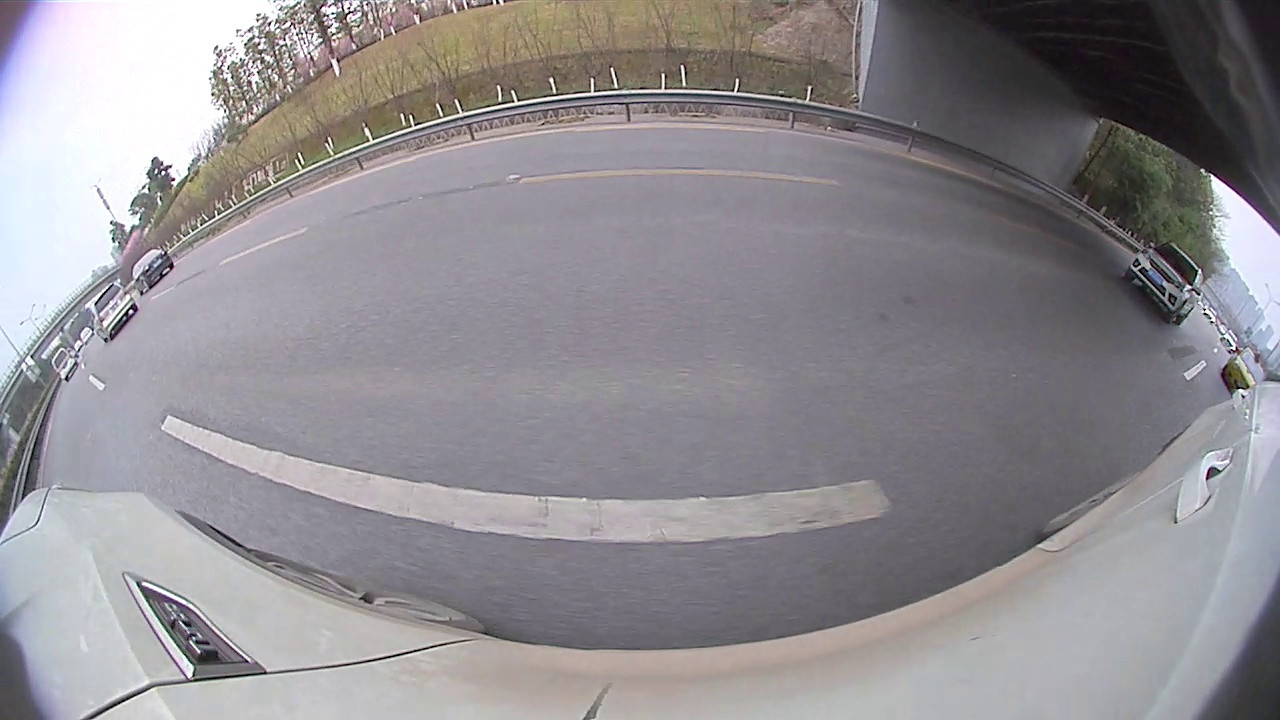car: (897, 171, 1254, 412), (381, 149, 543, 243), (609, 134, 729, 224), (726, 150, 774, 199), (535, 159, 589, 196)
front: (906, 217, 946, 267), (530, 179, 543, 213)
rear: (1100, 310, 1168, 389), (484, 190, 505, 231)
